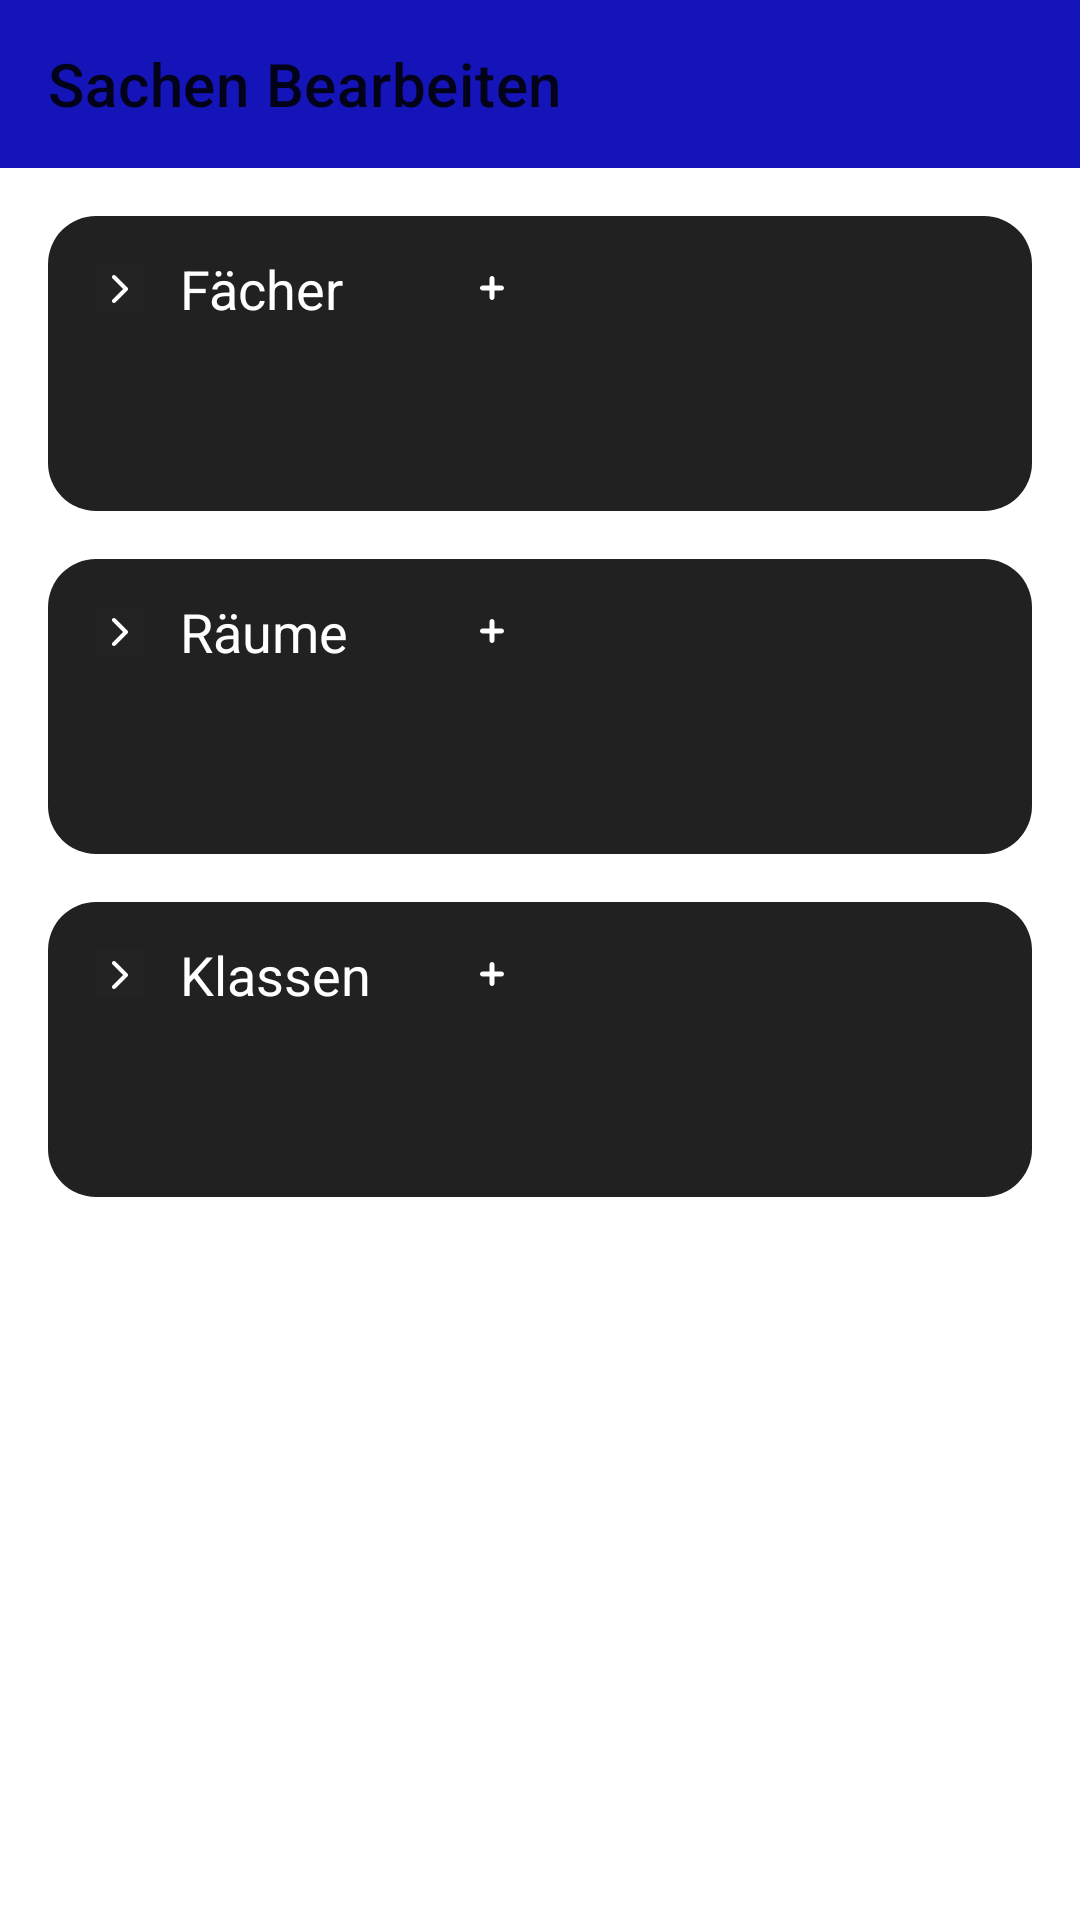

Screen size 1080 x 1920. Icon name, then its box in pixels as box=[x1, y1, x2, y2]:
add: box=[480, 276, 504, 300], box=[480, 619, 504, 643], box=[480, 962, 504, 986]
